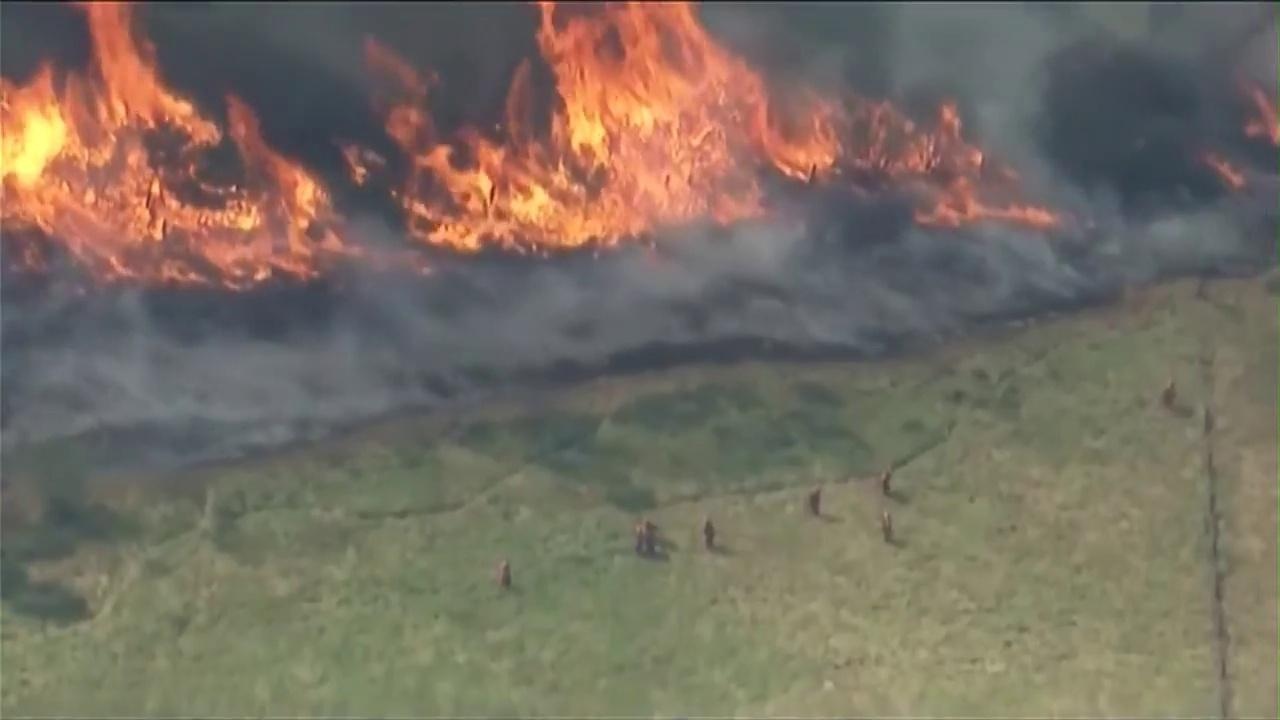Fire: (378, 6, 1059, 233), (16, 16, 319, 285)
